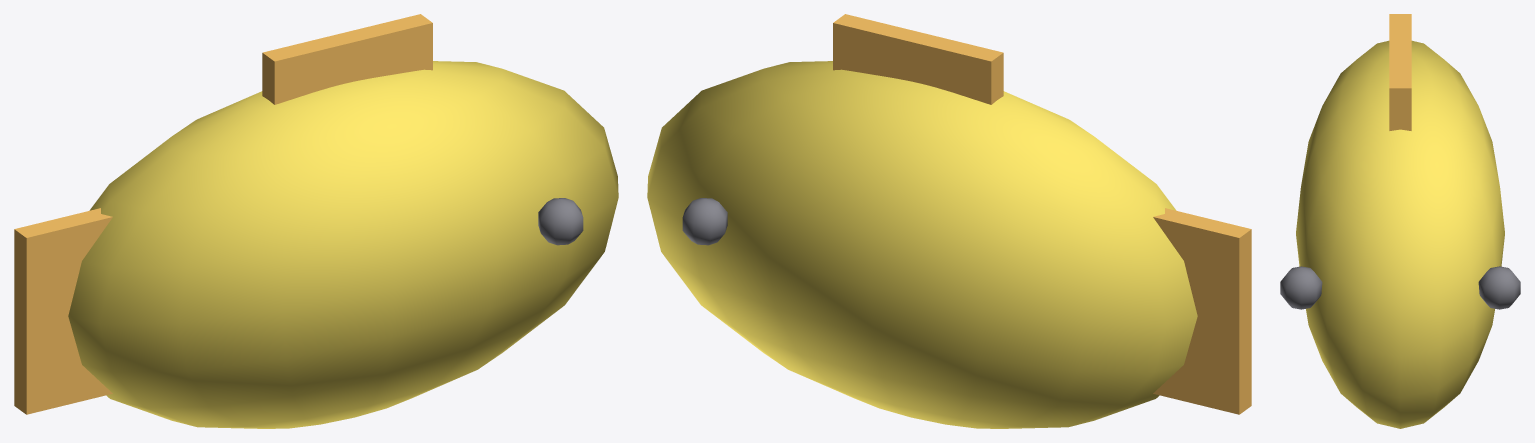
The model's file is pez.glb.
3 renders of one model, left to right at view 1: azimuth 30°, elevation 25°; view 2: azimuth 150°, elevation 25°; view 3: azimuth 270°, elevation 25°, orthographic. The views are drawn at different scales.
Visible parts, largest first — view 1: cuerpo_pez, cola_pez, aleta_dorsal, ojo_pez_0; view 2: cuerpo_pez, cola_pez, aleta_dorsal, ojo_pez_1; view 3: cuerpo_pez, aleta_dorsal, ojo_pez_0, ojo_pez_1.
Boxes of the visible parts, box(x1,y1,x2,y2) form: cuerpo_pez: box(68, 61, 618, 428); cola_pez: box(14, 208, 112, 414); aleta_dorsal: box(262, 14, 432, 104); ojo_pez_0: box(538, 198, 583, 245); cuerpo_pez: box(647, 61, 1197, 428); cola_pez: box(1153, 208, 1251, 414); aleta_dorsal: box(833, 14, 1003, 104); ojo_pez_1: box(682, 198, 727, 245); cuerpo_pez: box(1296, 40, 1504, 428); aleta_dorsal: box(1389, 18, 1411, 130); ojo_pez_0: box(1280, 266, 1322, 309); ojo_pez_1: box(1478, 266, 1520, 309).
Size of the model in its own units: 1.13 by 0.674 by 0.4361.
